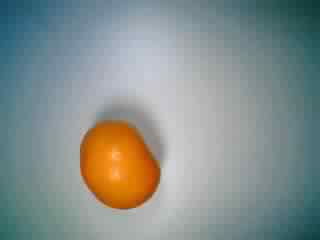orange: (70, 119, 165, 211)
